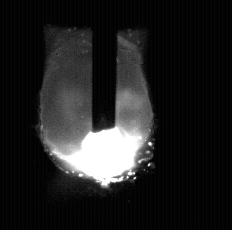arame: (93, 0, 117, 133)
poca: (42, 0, 152, 230)
